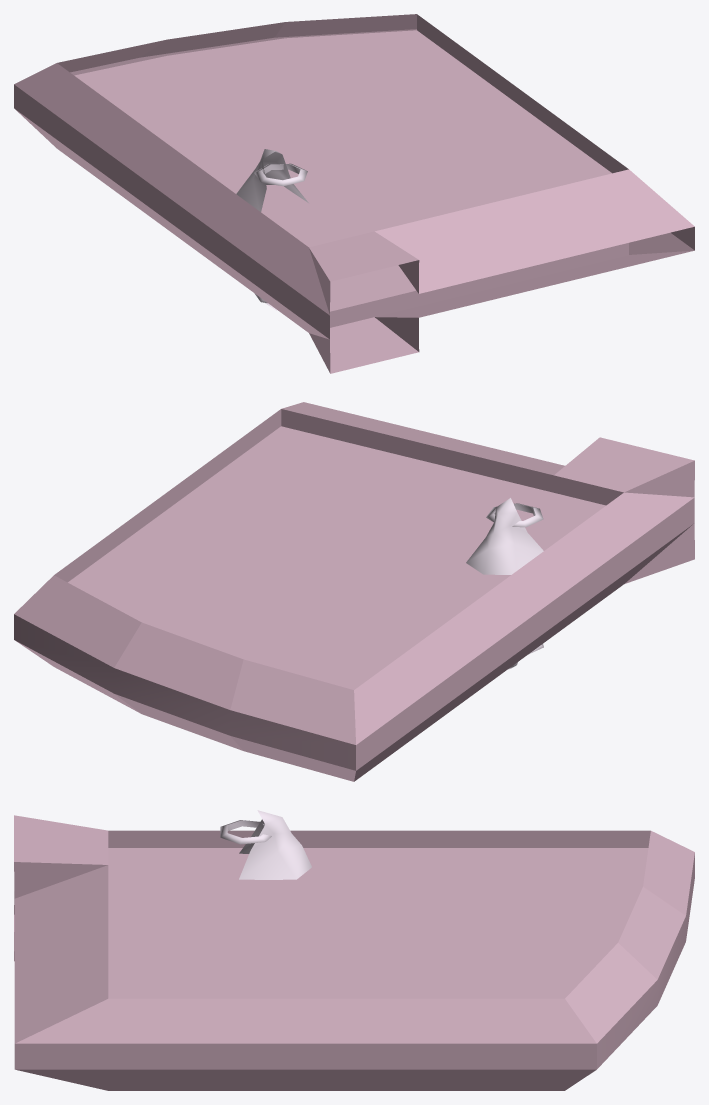
3 views of the same model, one above another, from view 1: azimuth 30°, elevation 25°; view 2: azimuth 150°, elevation 25°; view 3: azimuth 270°, elevation 25° (orthographic). The views are drawn at different scales.
Parts seen in each view (by area): view 1: Object89; view 2: Object89; view 3: Object89.
Boxes of the visible parts, x1,y1,x2,y2 form: Object89: (14,14,694,373); Object89: (14,402,694,781); Object89: (14,810,694,1090).
Bounding box in the file's own units: 20000 × 8385 × 30028.
